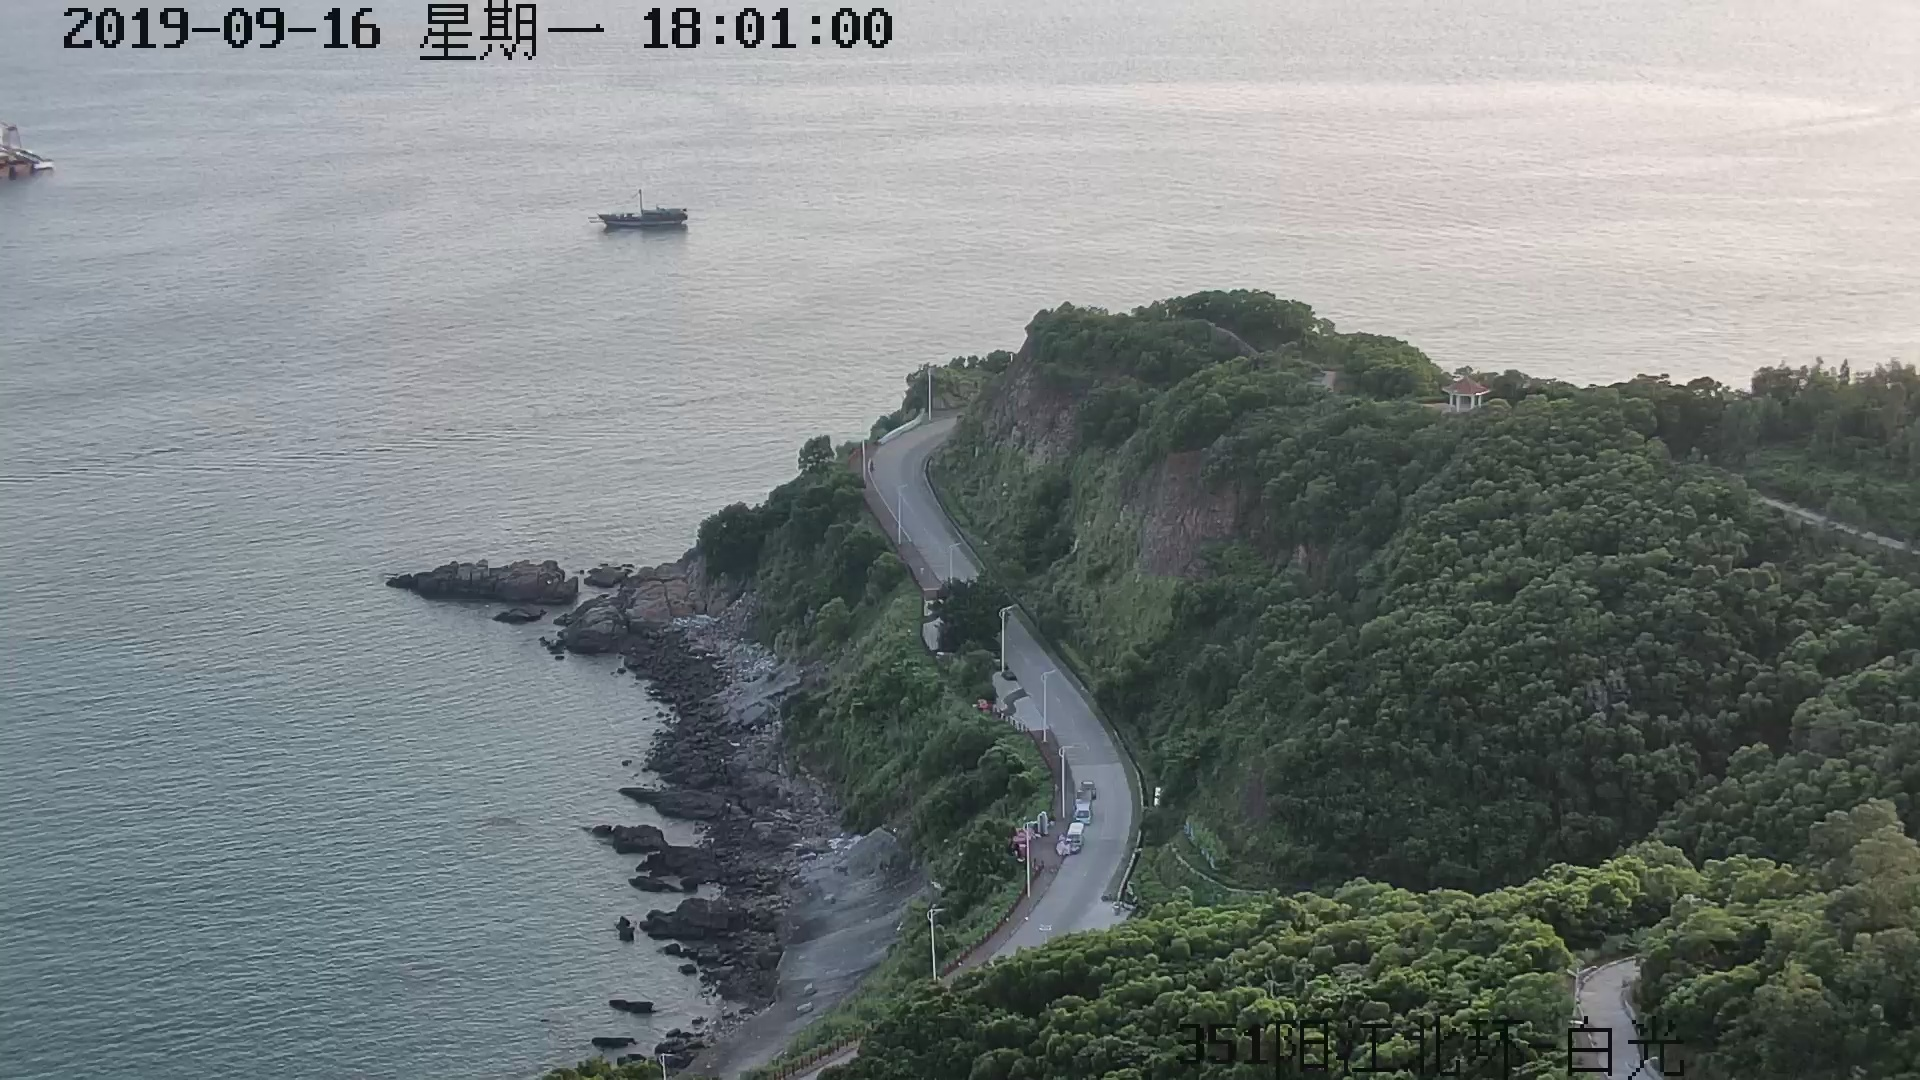ship: (592, 185, 688, 232)
